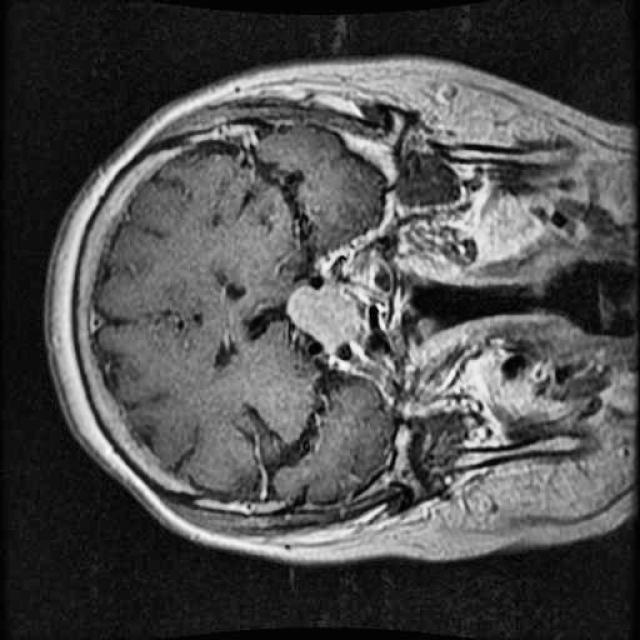Tumor: (268, 266, 388, 365)
